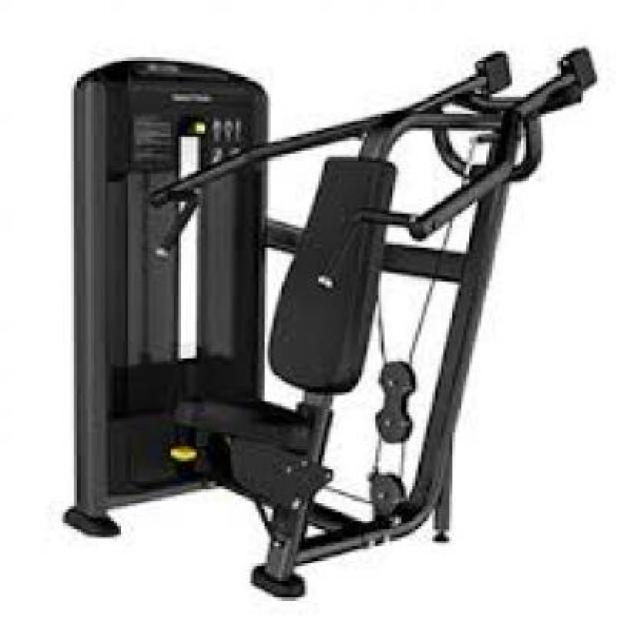shoulder press machine: (57, 26, 606, 608)
